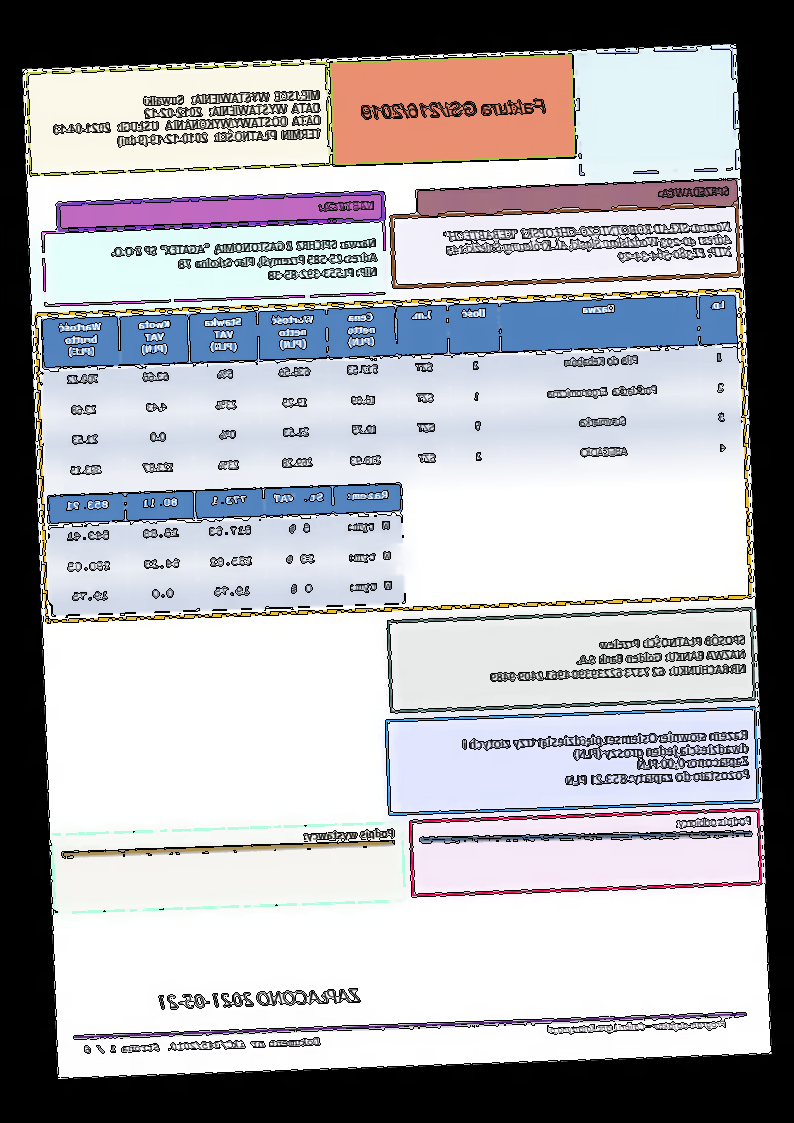Table: (41, 292, 744, 492), (47, 483, 407, 617)
TextBox: (460, 727, 751, 792), (51, 86, 323, 150), (439, 220, 734, 270), (488, 632, 748, 684), (109, 237, 379, 286), (157, 985, 364, 1014), (82, 1035, 323, 1057), (360, 96, 549, 122), (545, 1018, 729, 1038), (302, 826, 397, 844), (675, 813, 754, 831), (658, 184, 732, 200), (318, 199, 376, 213)
